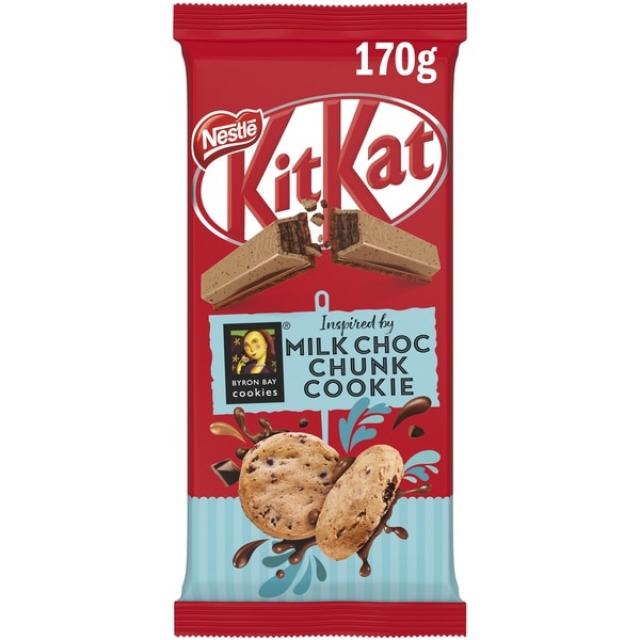kitkat: (174, 3, 470, 631)
